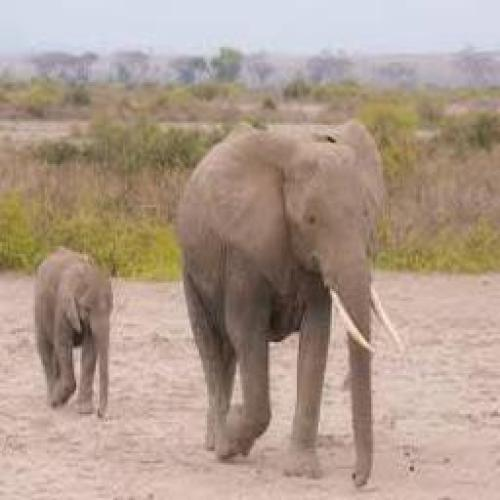african_elephant-endangered: (167, 118, 417, 494), (29, 241, 132, 428)
